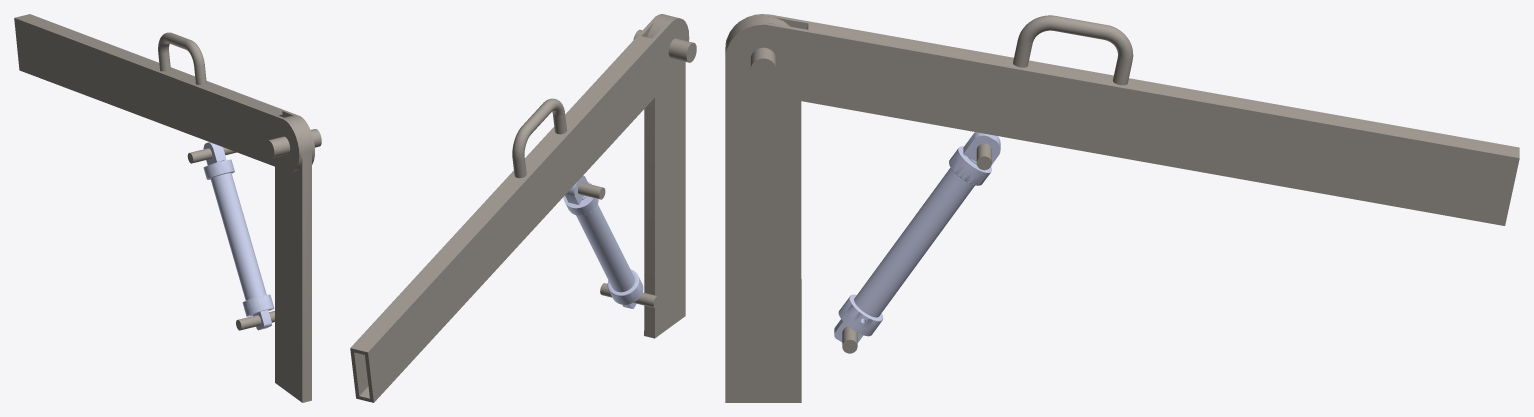
Rendered from testi_puomi.dae.
3 renders of one model, left to right at view 1: azimuth 30°, elevation 25°; view 2: azimuth 150°, elevation 25°; view 3: azimuth 270°, elevation 25°, orthographic. The views are drawn at different scales.
Visible parts, largest first — view 1: link1, link0, cylinder_L0-1, constraint1, constraint2, constraint3, cylinder_L0-1_piston; view 2: link1, link0, cylinder_L0-1, constraint1, constraint2, constraint3, cylinder_L0-1_piston; view 3: link1, link0, cylinder_L0-1, constraint1, cylinder_L0-1_piston.
Part boxes in pixels (x1,y1,x2,y2): link1: (14, 14, 314, 171); link0: (275, 115, 311, 402); cylinder_L0-1: (203, 159, 274, 330); constraint1: (265, 129, 321, 158); constraint2: (236, 311, 274, 330); constraint3: (187, 147, 236, 163); cylinder_L0-1_piston: (203, 142, 226, 165); link1: (350, 14, 689, 402); link0: (644, 15, 685, 338); cylinder_L0-1: (563, 182, 643, 308); constraint1: (633, 29, 696, 62); constraint2: (600, 283, 659, 308); constraint3: (578, 182, 605, 199); cylinder_L0-1_piston: (565, 175, 588, 204); link1: (725, 14, 1519, 225); link0: (725, 16, 801, 402); cylinder_L0-1: (834, 146, 991, 342); constraint1: (750, 47, 775, 81); cylinder_L0-1_piston: (963, 132, 1000, 169).
Bounding box in the file's own units: 0.3 × 1.66 × 3.12.
